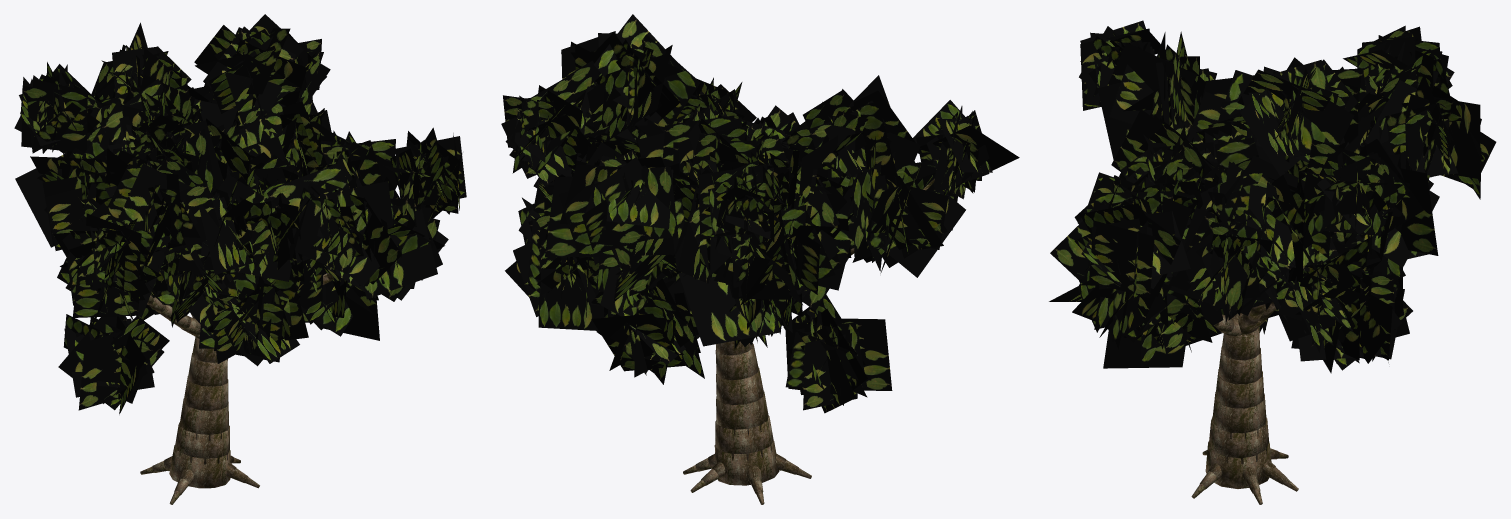
The model's file is giant_5.glb.
3 renders of one model, left to right at view 1: azimuth 30°, elevation 25°; view 2: azimuth 150°, elevation 25°; view 3: azimuth 270°, elevation 25°, orthographic. The views are drawn at different scales.
Visible parts, largest first — view 1: giant; view 2: giant; view 3: giant.
Boxes of the visible parts, bbox=[...] form: giant: bbox=[14, 14, 466, 504]; giant: bbox=[501, 14, 1019, 504]; giant: bbox=[1049, 20, 1496, 504].
Size of the model in its own units: 19.35 by 19.03 by 16.72.
Materials: 2 (2 with a texture image).
